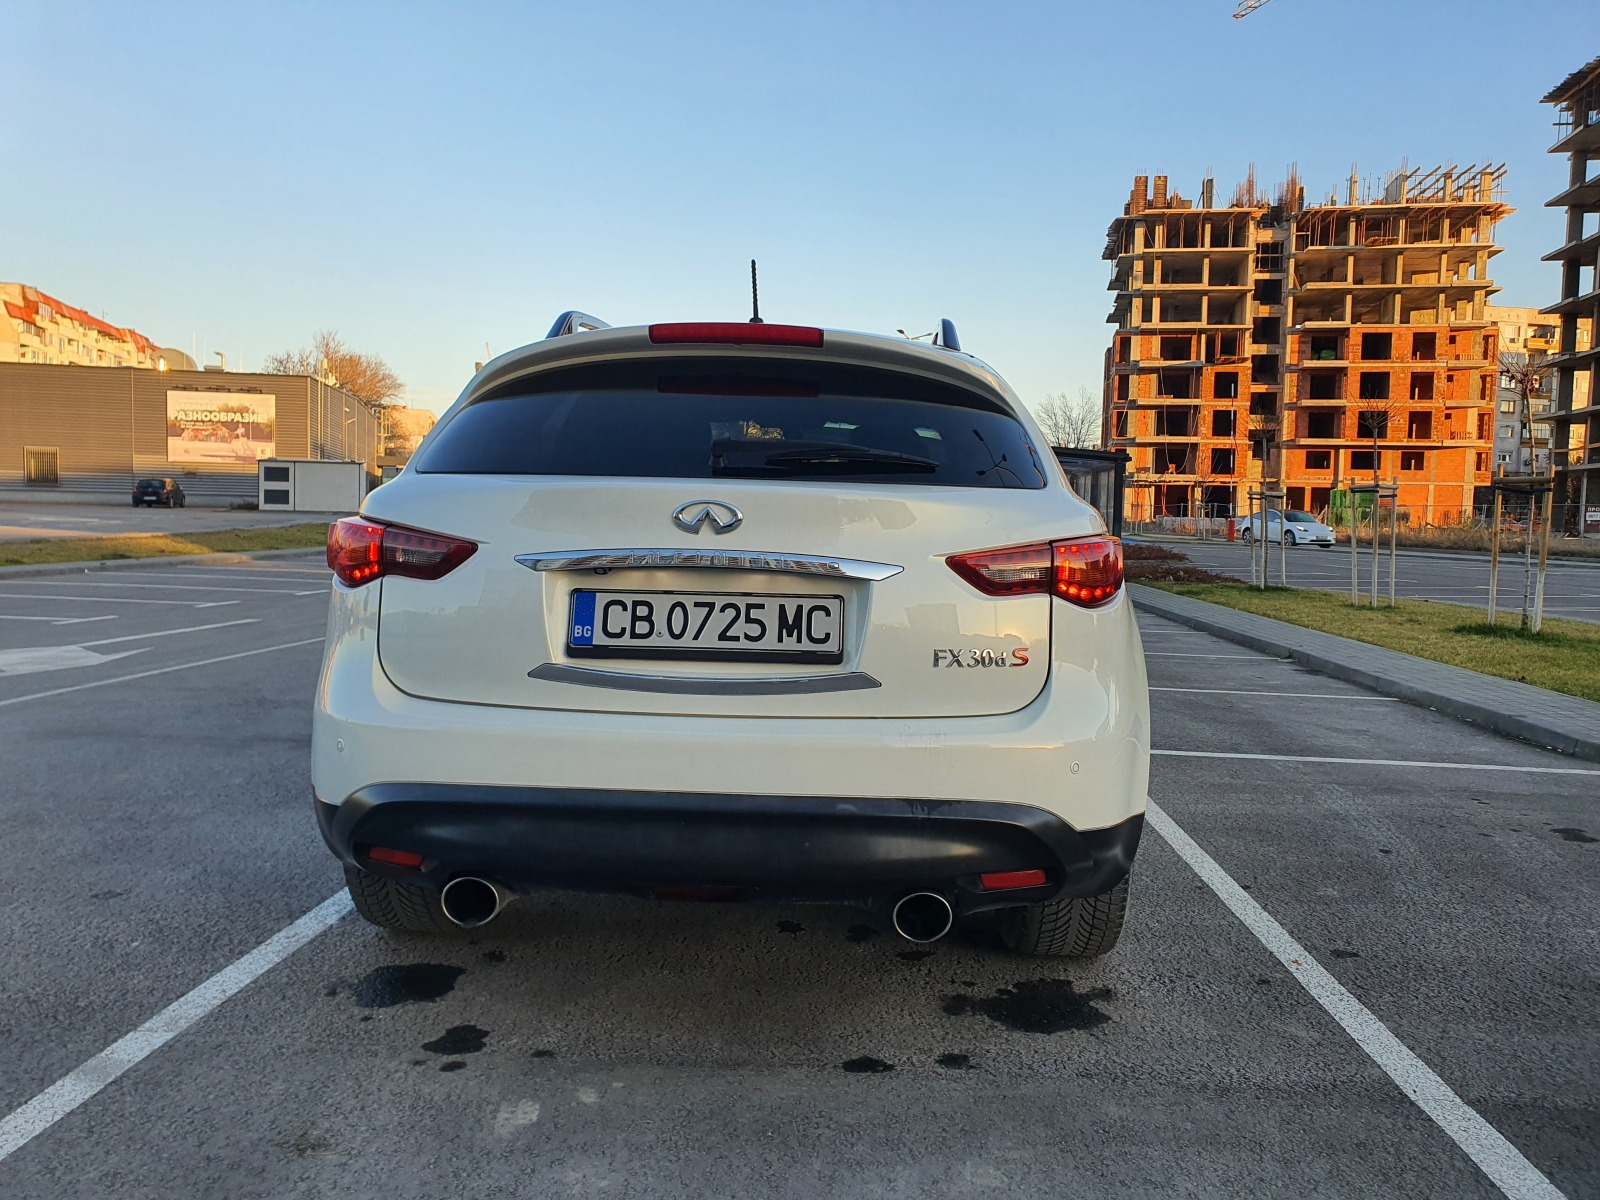registration_plate: (568, 590, 845, 658)
